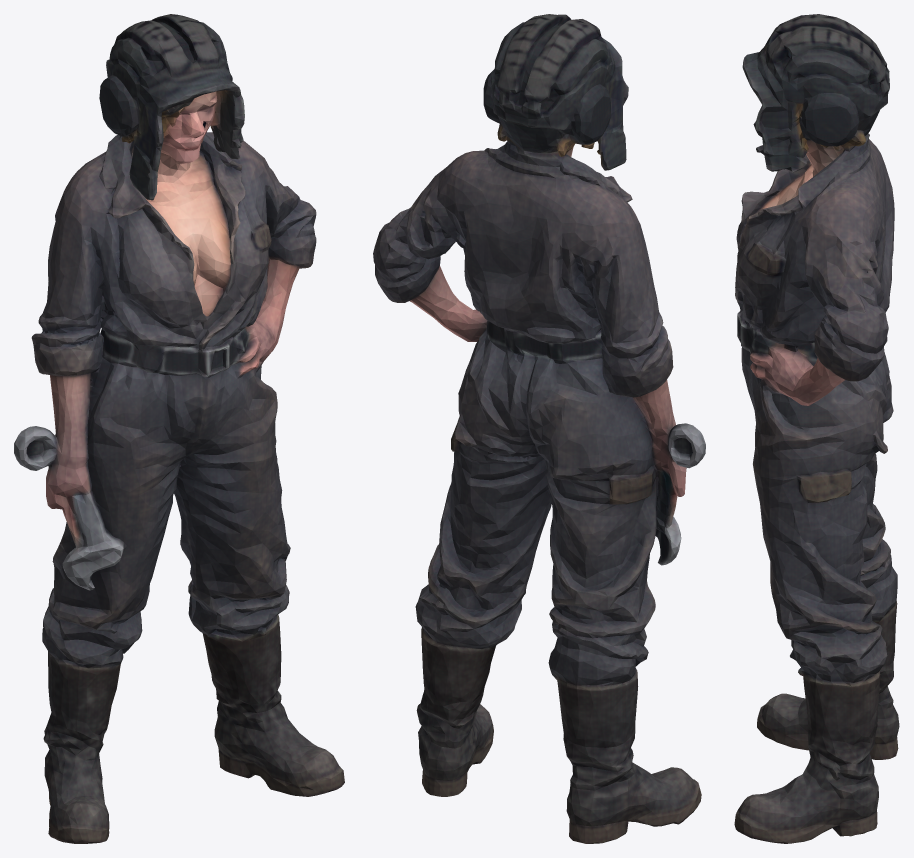
File: crew_su_driver_2.obj
3 views of the same model, side by side, from view 1: azimuth 30°, elevation 25°; view 2: azimuth 150°, elevation 25°; view 3: azimuth 270°, elevation 25° (orthographic). The views are drawn at different scales.
Parts seen in each view (by area): view 1: crew_su_driver_2; view 2: crew_su_driver_2; view 3: crew_su_driver_2.
Boxes of the visible parts, bbox=[...] form: crew_su_driver_2: bbox=[14, 14, 344, 843]; crew_su_driver_2: bbox=[373, 14, 705, 843]; crew_su_driver_2: bbox=[734, 14, 899, 843].
Size of the model in its own units: 0.7018 by 1.68 by 0.3301.
Materials: 1 (1 with a texture image).
